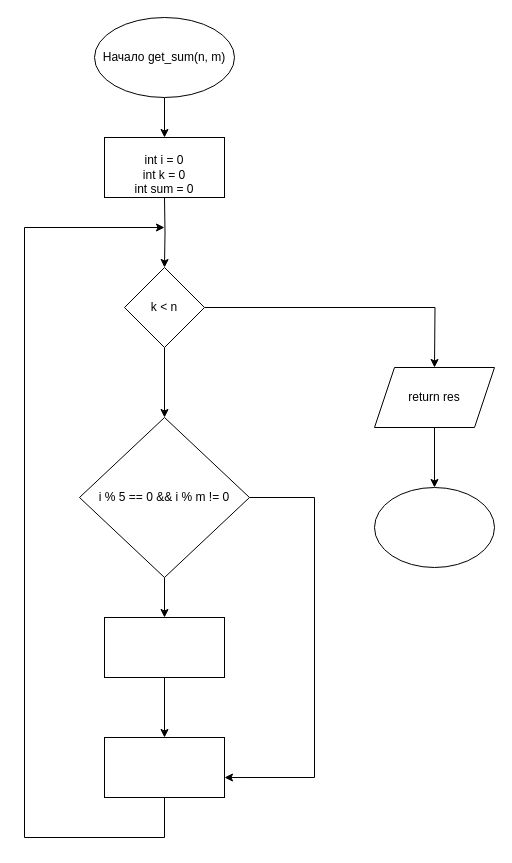
Image size: 512x863. Some labels were removed from this diagram. The centre of each missing label's shape, as x and y in pixels:
"i++" belongs at [164,767].
"k++ sum += i" belongs at [164,647].
"Конец" belongs at [434,527].
